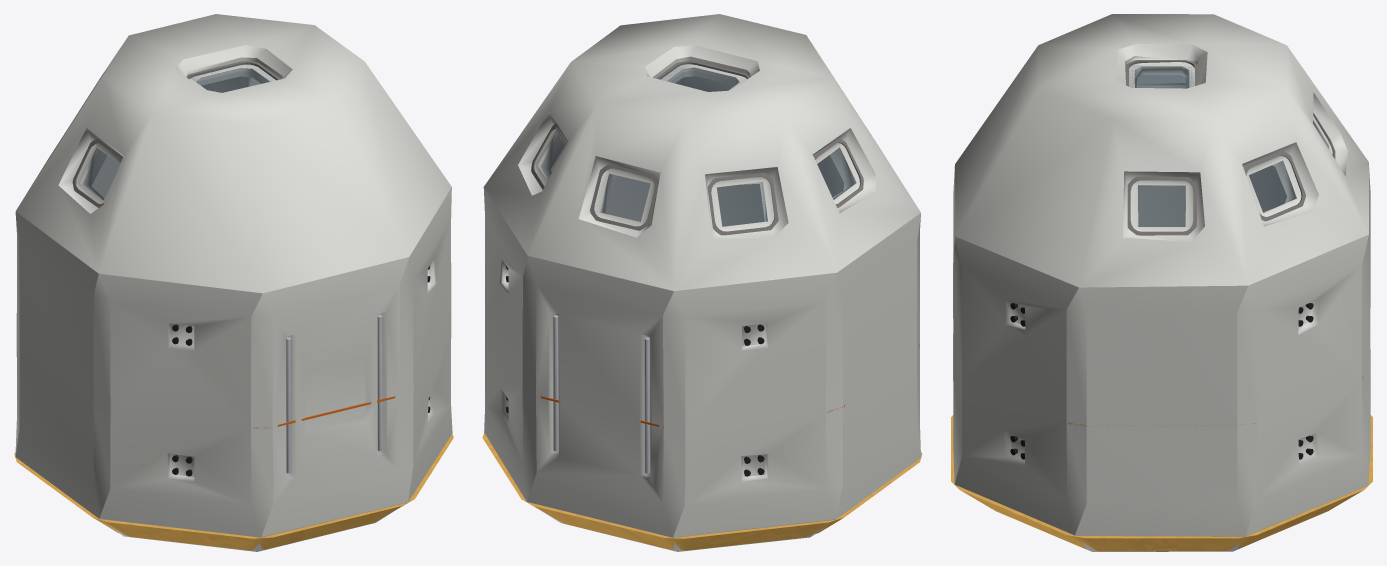
File: ax_cmd_06_tug_cab.glb
3 renders of one model, left to right at view 1: azimuth 30°, elevation 25°; view 2: azimuth 150°, elevation 25°; view 3: azimuth 270°, elevation 25°, orthographic.
Parts seen in each view (by area): view 1: shell, mli_aft_bulkhead, window_glass, handrails, window_frames; view 2: shell, window_glass, mli_aft_bulkhead, window_frames, handrails; view 3: shell, mli_aft_bulkhead, window_glass, window_frames, rcs_nozzles.
Boxes of the visible parts, box(x1,y1,x2,y2) form: shell: box(15, 14, 452, 551); mli_aft_bulkhead: box(14, 434, 453, 550); window_glass: box(80, 68, 273, 199); handrails: box(286, 315, 382, 473); window_frames: box(72, 61, 281, 207); shell: box(483, 14, 920, 551); window_glass: box(538, 65, 855, 226); mli_aft_bulkhead: box(482, 432, 922, 550); window_frames: box(531, 60, 863, 235); handrails: box(553, 315, 650, 473); shell: box(953, 14, 1370, 551); mli_aft_bulkhead: box(951, 415, 1372, 551); window_glass: box(1129, 65, 1328, 226); window_frames: box(1125, 60, 1335, 235); rcs_nozzles: box(1010, 303, 1313, 459).
Size of the model in its own units: 2.36 by 2.78 by 2.36.
Materials: 7 (3 with a texture image).
